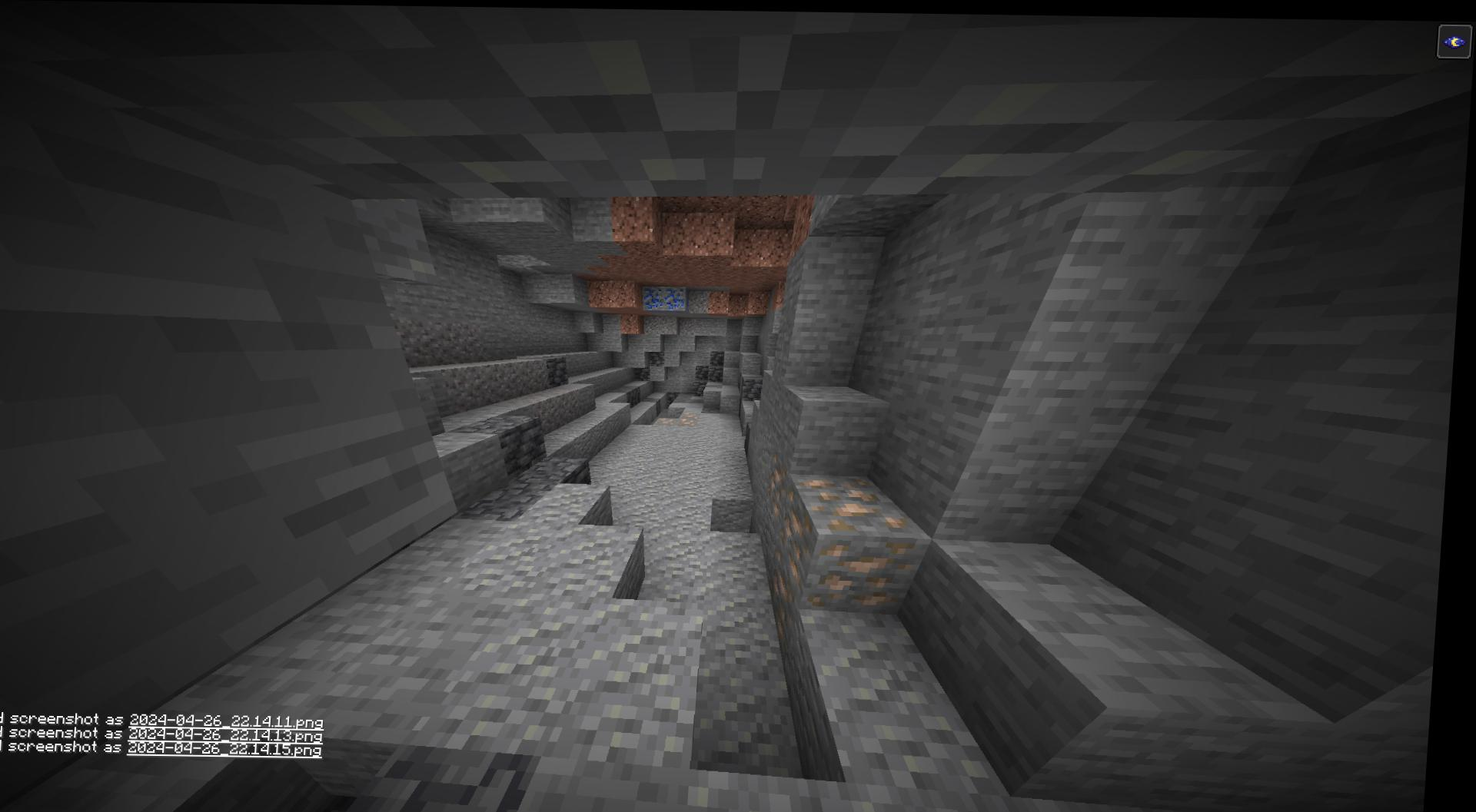iron ore: (819, 523, 915, 604), (804, 469, 919, 536), (781, 494, 827, 570), (774, 550, 805, 623), (770, 460, 801, 512), (664, 406, 709, 432)
